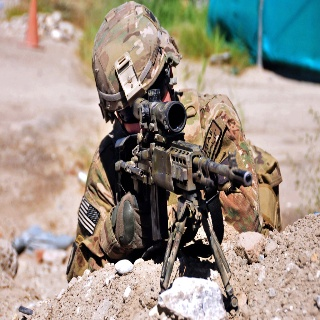rifle: (116, 85, 254, 242)
